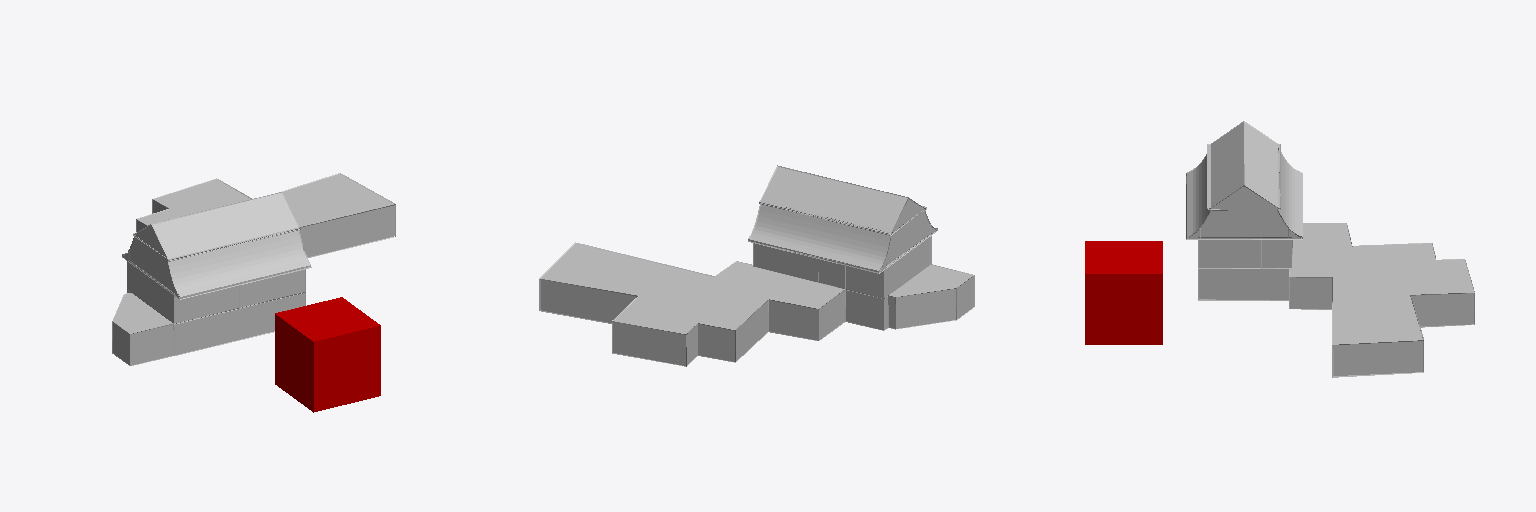
Rendered from H19_wireframe_test.obj.
3 views of the same model, side by side, from view 1: azimuth 30°, elevation 25°; view 2: azimuth 150°, elevation 25°; view 3: azimuth 270°, elevation 25° (orthographic).
Parts seen in each view (by area): view 1: Haus_19_v5_Glass_transparent_with_low_glossy, Cube_Material.004, Haus_19.001_Base_Material_-_Glazing; view 2: Haus_19_v5_Glass_transparent_with_low_glossy, Haus_19.001_Base_Material_-_Glazing; view 3: Haus_19_v5_Glass_transparent_with_low_glossy, Cube_Material.004, Haus_19.001_Base_Material_-_Glazing.
Boxes of the visible parts, <box> form: Haus_19_v5_Glass_transparent_with_low_glossy: <box>113,174,394,365</box>; Cube_Material.004: <box>275,297,380,412</box>; Haus_19.001_Base_Material_-_Glazing: <box>112,173,395,365</box>; Haus_19_v5_Glass_transparent_with_low_glossy: <box>540,167,973,365</box>; Haus_19.001_Base_Material_-_Glazing: <box>539,165,974,366</box>; Haus_19_v5_Glass_transparent_with_low_glossy: <box>1187,122,1474,375</box>; Cube_Material.004: <box>1085,241,1162,344</box>; Haus_19.001_Base_Material_-_Glazing: <box>1186,121,1474,377</box>.
Bounding box in the file's own units: 170 × 73.5 × 172.